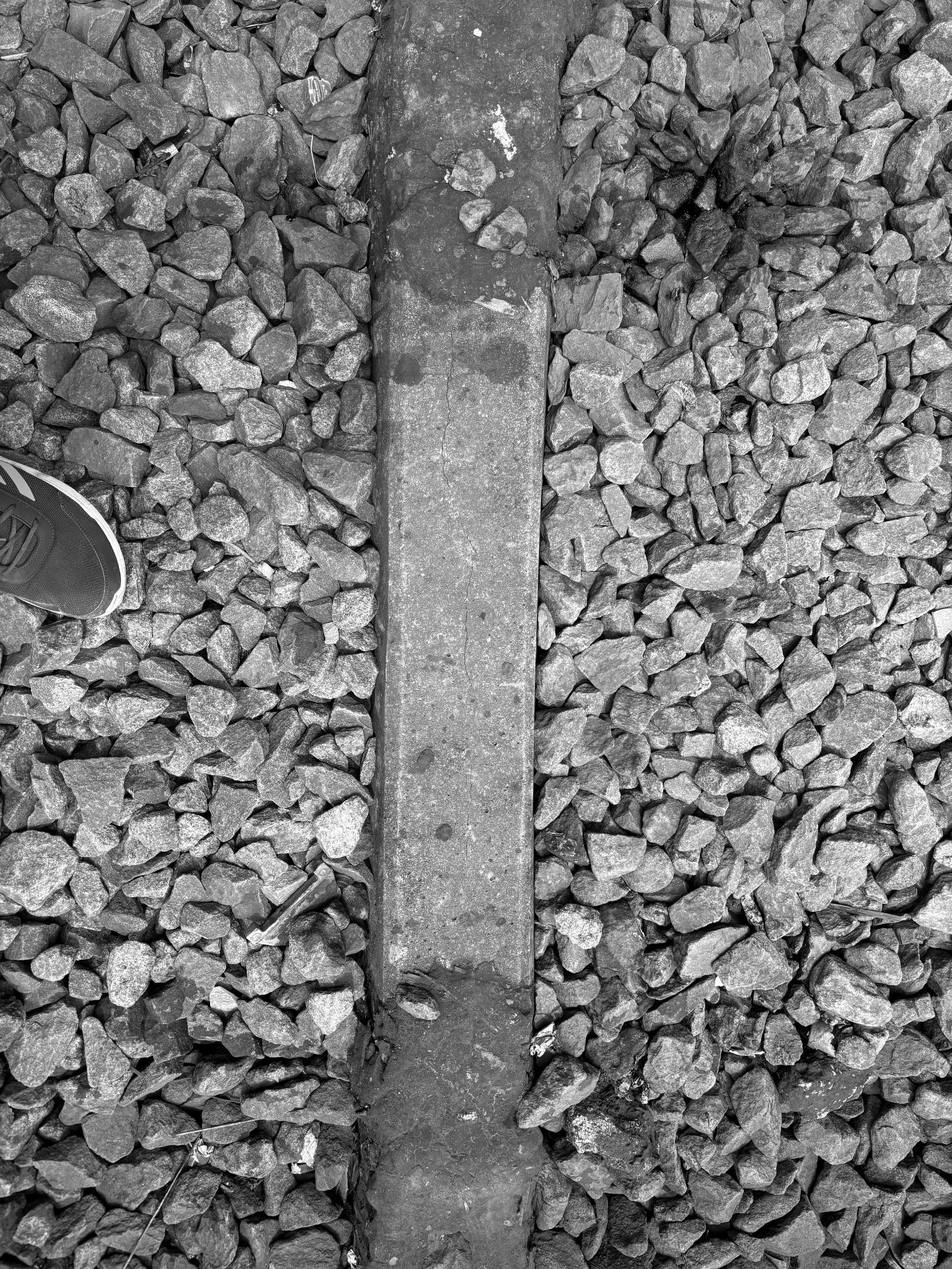cracks in midportion: (428, 310, 476, 733)
